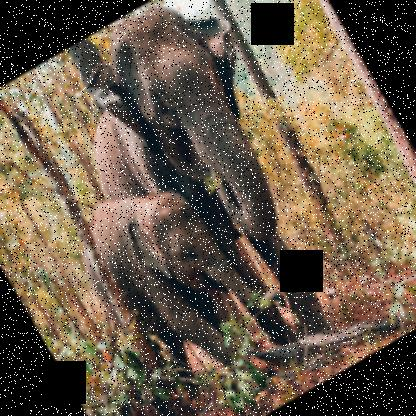Elephas-maximus: (31, 0, 390, 396), (50, 145, 316, 415)
